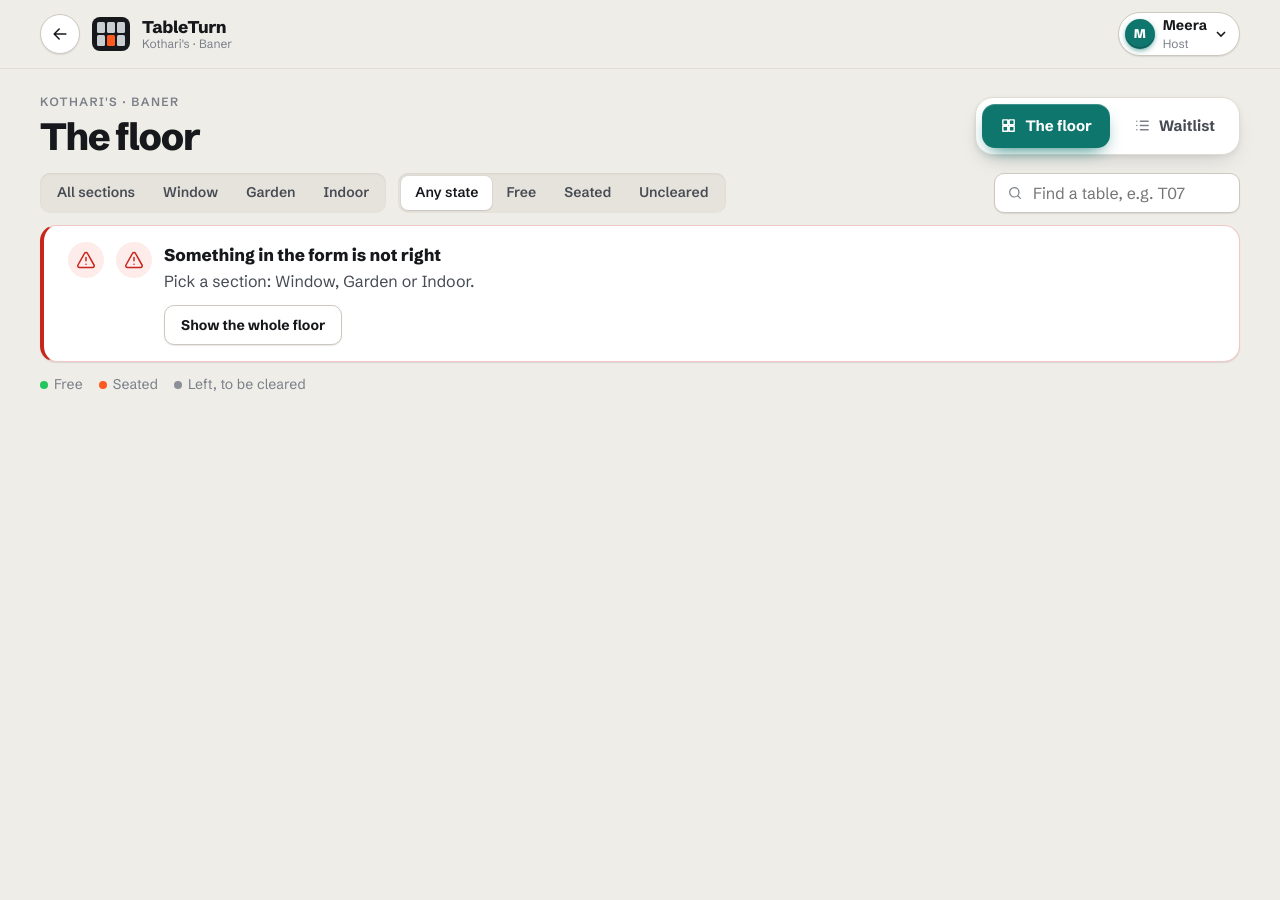
Scenario: F-04 · Finding one table › "Show the whole floor" opens the floor with no filters
The image size is (1280, 900).
Click the link "Show the whole floor" at (253, 325), box [164,305,342,345]
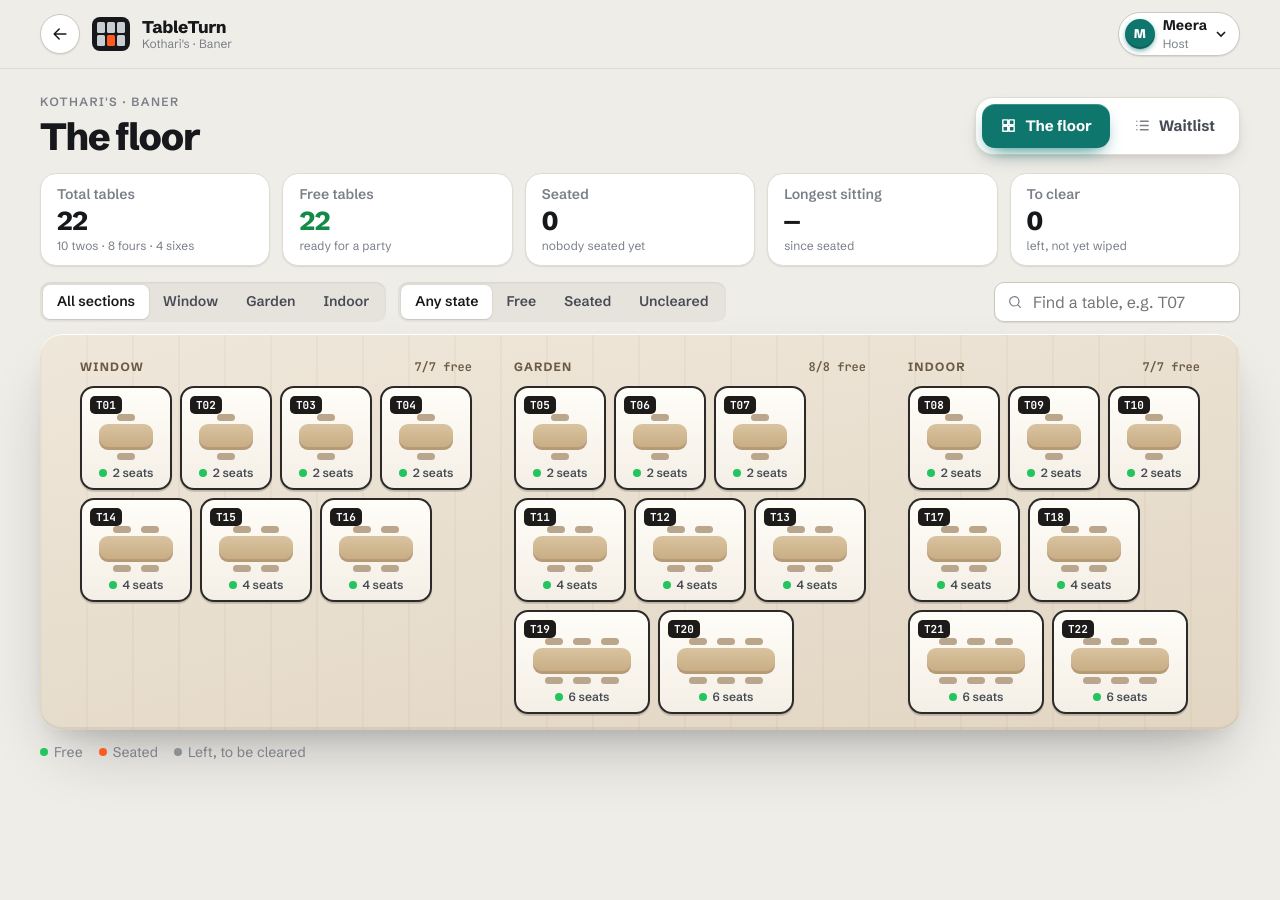
Now the number of buttons "T01 2 seats" is 22
